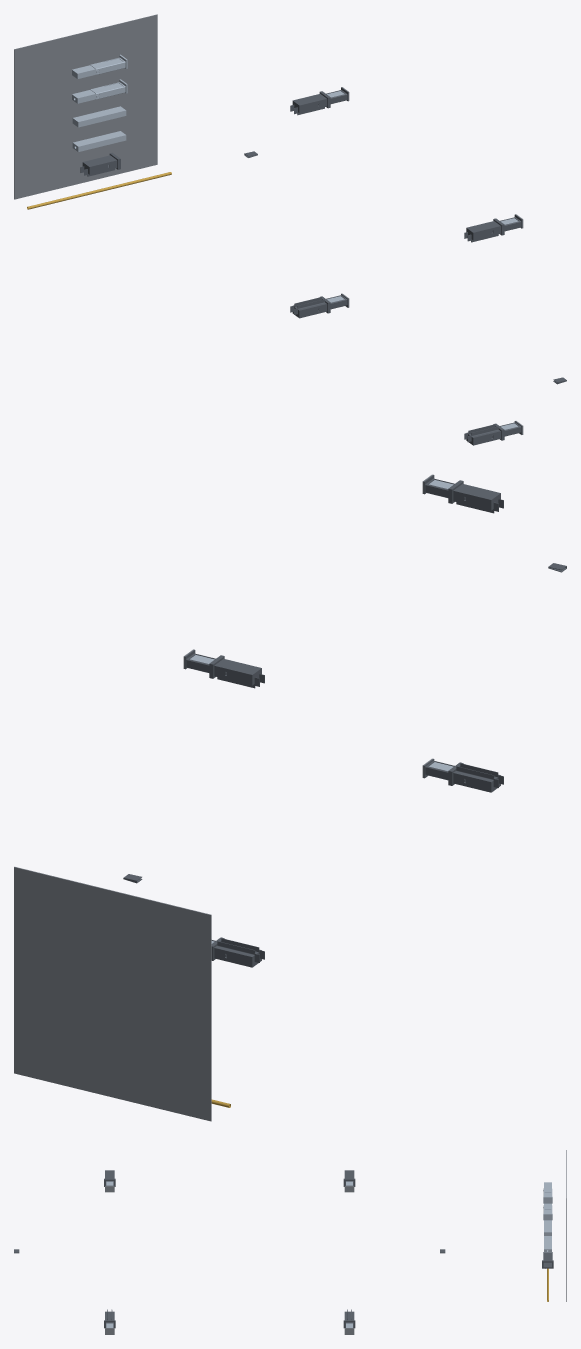
Rendered from landing.glb.
The picture shows the model from 3 angles, top to bottom: view 1: azimuth 30°, elevation 25°; view 2: azimuth 150°, elevation 25°; view 3: azimuth 270°, elevation 25°; orthographic projection. The views are drawn at different scales.
Visible parts, largest first — view 1: GER-006, GER-009, GER-005, GER-001-UL, GER-012, GER-001-UR, GER-001-LR, GER-001-LL, GER-010, GER-011, GER-013; view 2: GER-006, GER-001-UR, GER-001-UL, GER-001-LL, GER-001-LR; view 3: no part large enough to name.
Part boxes in pixels (left/top/right/bottom): GER-006: left=14, top=14, right=157, bottom=199; GER-009: left=72, top=79, right=127, bottom=103; GER-005: left=72, top=54, right=127, bottom=79; GER-001-UL: left=464, top=218, right=504, bottom=242; GER-012: left=80, top=152, right=120, bottom=176; GER-001-UR: left=290, top=91, right=330, bottom=115; GER-001-LR: left=290, top=296, right=330, bottom=318; GER-001-LL: left=464, top=423, right=504, bottom=445; GER-010: left=72, top=106, right=126, bottom=127; GER-011: left=72, top=131, right=126, bottom=151; GER-013: left=27, top=172, right=171, bottom=209; GER-006: left=14, top=866, right=211, bottom=1121; GER-001-UR: left=209, top=655, right=264, bottom=688; GER-001-UL: left=448, top=480, right=503, bottom=513; GER-001-LL: left=448, top=762, right=503, bottom=792; GER-001-LR: left=211, top=937, right=264, bottom=967.
Bounding box in the file's own units: 0.3704 × 0.438 × 1.48.
